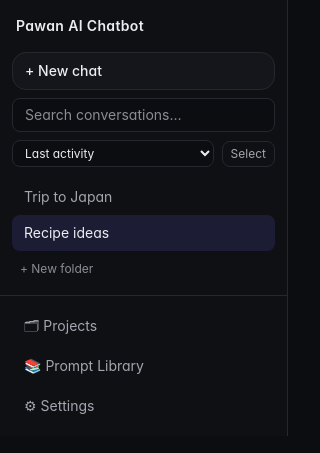
Sidebar › search filters the conversation list by title
This screenshot has width=320, height=453.
Type "trip" into the field labelled "Search conversations" at (144, 115), box [12, 98, 275, 132]
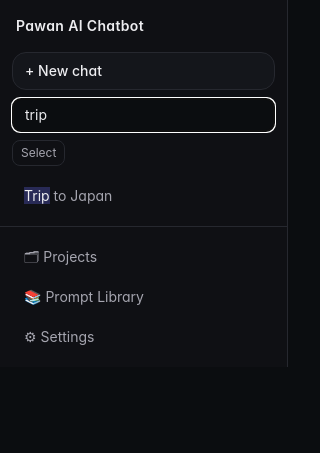
expect the button "Trip to Japan" is shown: met, box [12, 178, 275, 214]
expect the button "Recipe ideas" is gone: met
